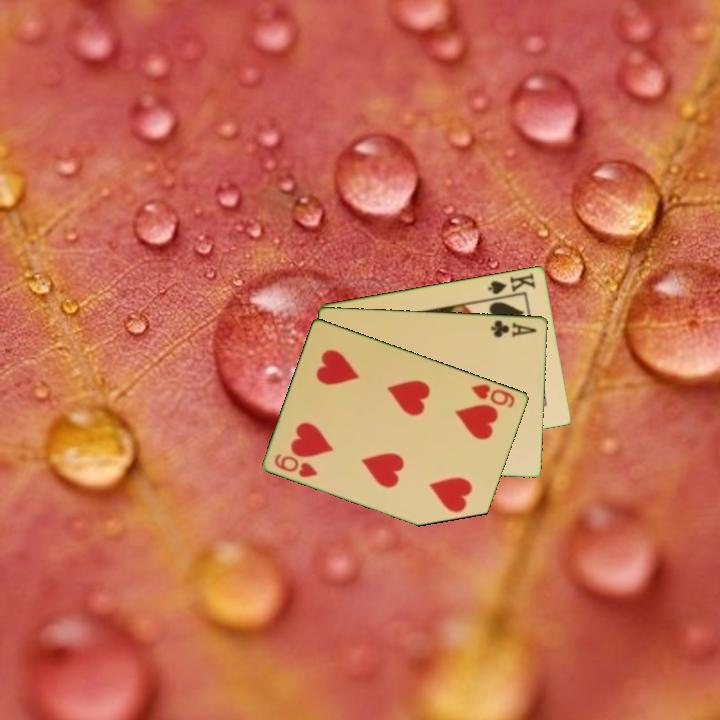6h: (468, 380, 518, 410), (271, 450, 321, 480)
Ac: (488, 316, 540, 340)
Ks: (484, 269, 538, 301)
